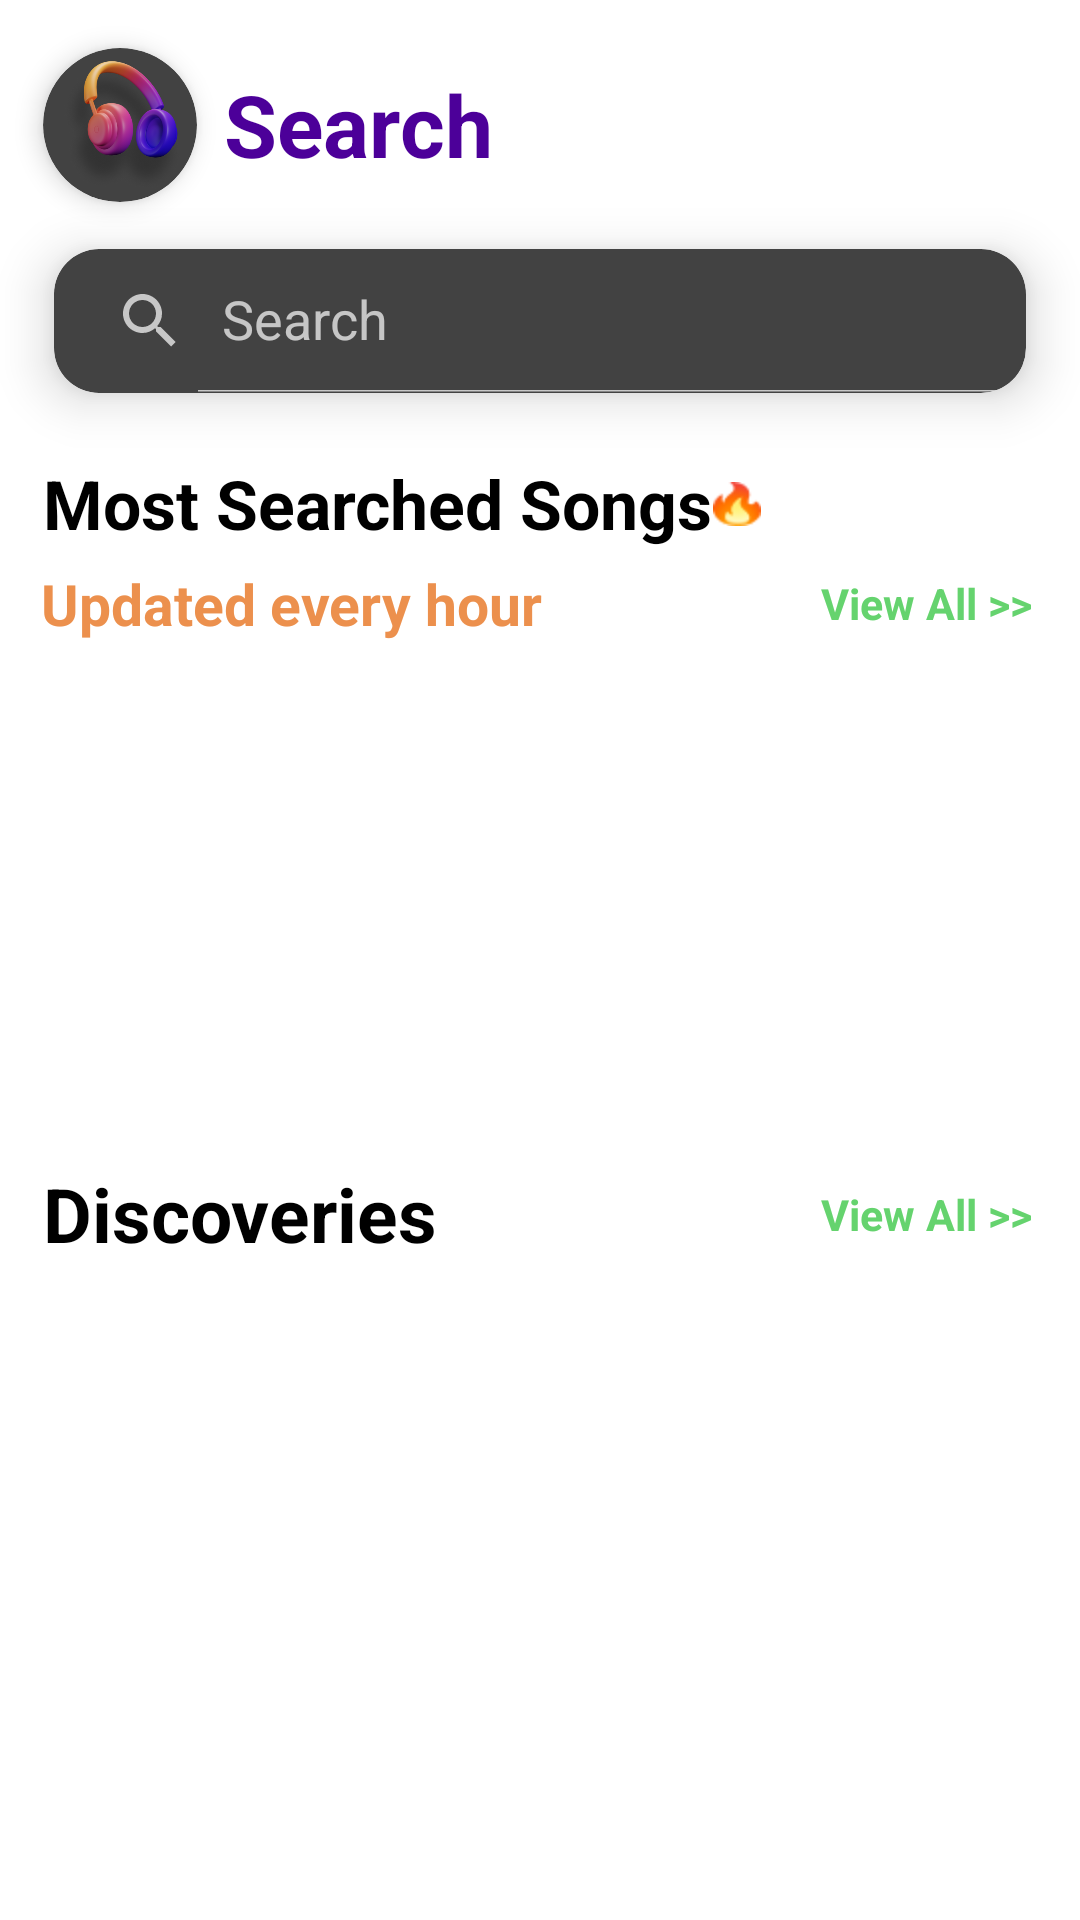

Where icons sit on this 1080 x 1920 app screen, as (x1, y1, x2, y2):
app: (43, 48, 197, 202)
fire: (713, 482, 761, 526)
